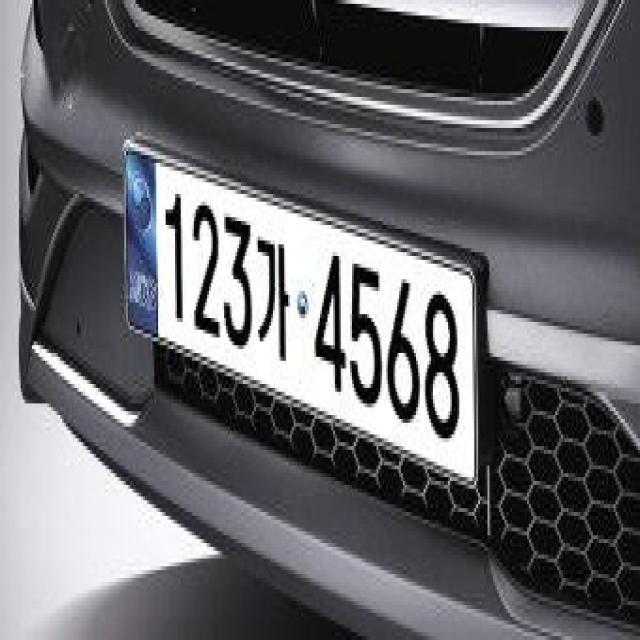car: (111, 125, 502, 509)
